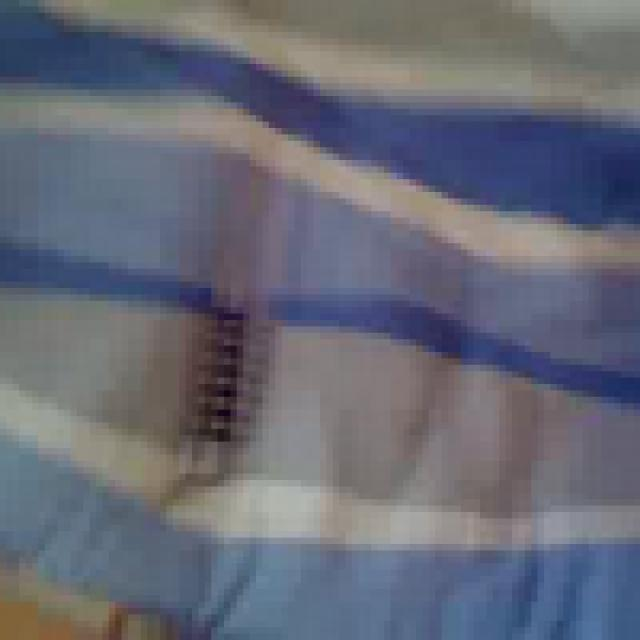Weapons: (168, 134, 294, 495)
